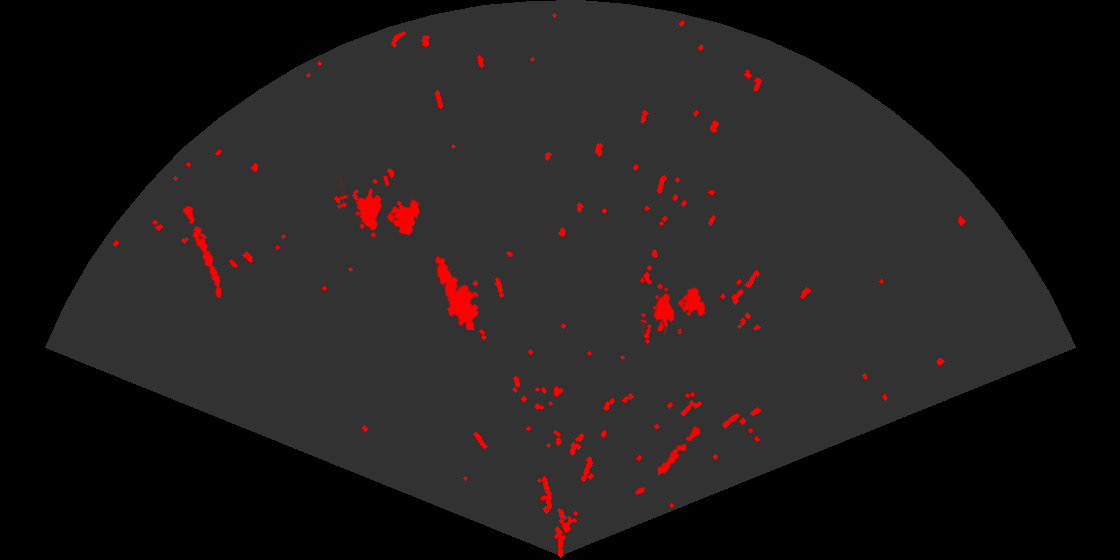cage: (339, 176, 421, 239), (641, 286, 708, 334)
chain: (633, 425, 702, 497), (181, 204, 223, 300)
frogman: (434, 254, 481, 330)
